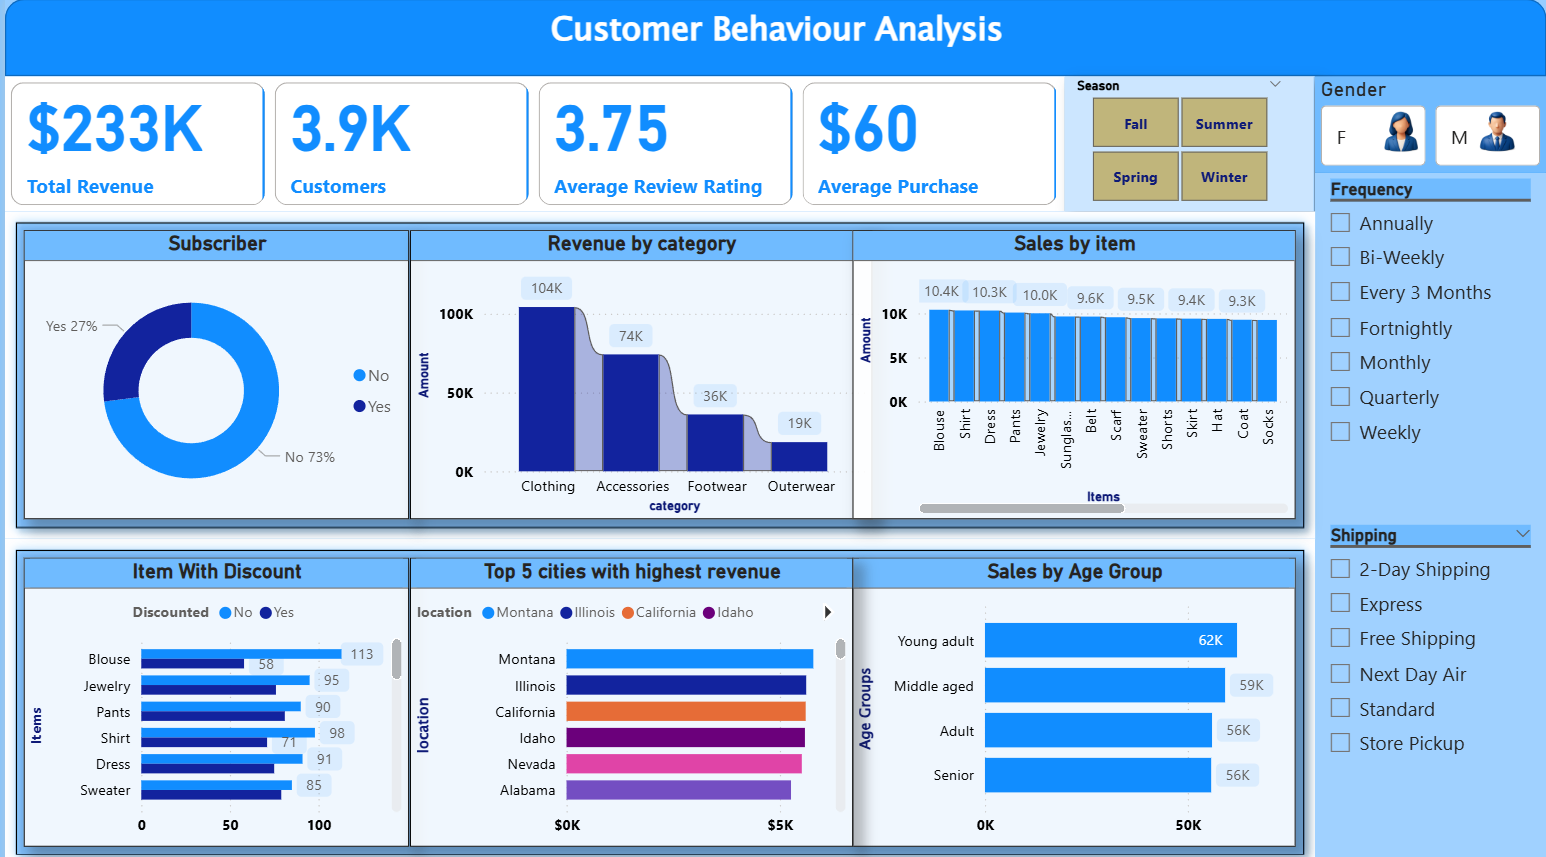

What the dashboard file says about the page in this screenshot:
{"tool":"powerbi","page":{"name":"Page 1","canvas":[1280,720],"ordinal":0},"visuals":[{"type":"shape","box":[0,448,1088,272],"z":0},{"type":"slicer","fields":{"Values":["customer cust01.Gender"]},"box":[1088,64,192,80],"z":1000},{"type":"shape","box":[1088,64,192,656],"z":2000},{"type":"shape","box":[0,0,1280,64],"z":3000},{"type":"cardVisual","fields":{"Data":["customer cust01.Total Revenue","customer cust01.Customers","customer cust01.Average Review Rating","customer cust01.Average Purchase"]},"box":[0,64,880,112],"z":4000},{"type":"textbox","box":[448,0,448,64],"z":5000},{"type":"shape","box":[0,176,1088,272],"z":6000},{"type":"slicer","fields":{"Values":["customer cust01.season"]},"box":[880,64,206,112],"z":7000},{"type":"donutChart","title":"Subscriber ","fields":{"Category":["customer cust01.subscription_status"],"Y":["CountNonNull(customer cust01.customer_id)"]},"box":[16,192,320,240],"z":8000},{"type":"columnChart","title":"Revenue by category","fields":{"Category":["customer cust01.category"],"Y":["Sum(customer cust01.purchase_amount)"]},"box":[336,192,384,240],"z":9000},{"type":"columnChart","title":"Sales by item","fields":{"Category":["customer cust01.item_purchased"],"Y":["Sum(customer cust01.purchase_amount)"]},"box":[704,192,368,240],"z":10000},{"type":"slicer","fields":{"Values":["customer cust01.frequency_of_purchases"]},"box":[1088,144,192,288],"z":11000},{"type":"clusteredBarChart","title":"Sales by Age Group","fields":{"Category":["customer cust01.age_group"],"Y":["Sum(customer cust01.purchase_amount)"]},"box":[704,464,368,240],"z":12000},{"type":"slicer","fields":{"Values":["customer cust01.shipping_type"]},"box":[1088,432,192,288],"z":13000},{"type":"clusteredBarChart","title":"Item With Discount","fields":{"Category":["customer cust01.item_purchased"],"Y":["CountNonNull(customer cust01.item_purchased)"],"Series":["customer cust01.discount_applied"]},"box":[16,464,320,240],"z":15000},{"type":"advancedSlicerVisual","fields":{"Values":["customer cust01.Gender"]},"box":[1088,64,192,80],"z":16000},{"type":"group","id":"g1","title":"Group 2","box":[1216,77.8,48,64],"z":17000},{"type":"image","box":[1136,77.8,48,64],"z":18000},{"type":"barChart","title":"Top 5 cities with highest revenue","fields":{"Y":["customer cust01.Total Revenue"],"Category":["customer cust01.location"],"Series":["customer cust01.location"]},"box":[336,464,368,240],"z":18001},{"type":"image","box":[1216,77.8,48,64],"z":19500,"group":"g1"}]}

Visuals, with their boxes in screenshot pixels (x1, y1, x2, y2), scaled from the page's 1280x720 canvas onto the 1546x857 screenshot:
shape: (0, 533, 1314, 856)
slicer - customer cust01.Gender: (1314, 76, 1545, 171)
shape: (1314, 76, 1545, 856)
shape: (0, 0, 1545, 76)
cardVisual - customer cust01.Total Revenue x customer cust01.Customers: (0, 76, 1063, 209)
textbox: (541, 0, 1082, 76)
shape: (0, 209, 1314, 533)
slicer - customer cust01.season: (1063, 76, 1312, 209)
"Subscriber " donutChart: (19, 229, 406, 514)
"Revenue by category" columnChart: (406, 229, 870, 514)
"Sales by item" columnChart: (850, 229, 1295, 514)
slicer - customer cust01.frequency_of_purchases: (1314, 171, 1545, 514)
"Sales by Age Group" clusteredBarChart: (850, 552, 1295, 838)
slicer - customer cust01.shipping_type: (1314, 514, 1545, 856)
"Item With Discount" clusteredBarChart: (19, 552, 406, 838)
advancedSlicerVisual - customer cust01.Gender: (1314, 76, 1545, 171)
"Group 2" group: (1469, 93, 1527, 169)
image: (1372, 93, 1430, 169)
"Top 5 cities with highest revenue" barChart: (406, 552, 850, 838)
image: (1469, 93, 1527, 169)
